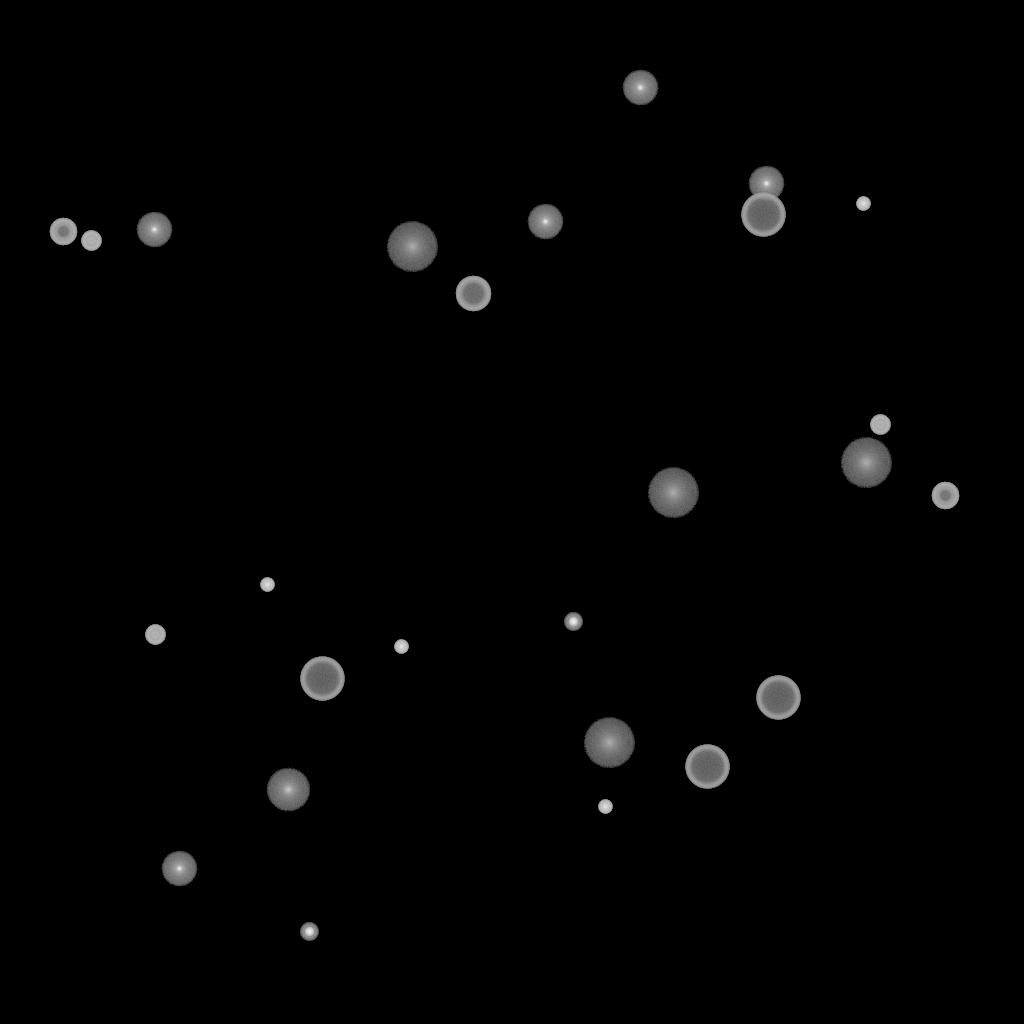depth:-20: (564, 613, 582, 631), (300, 923, 318, 941)
depth:-30: (856, 197, 870, 211), (598, 800, 612, 814), (260, 578, 274, 592), (394, 640, 408, 654)
depth:-40: (870, 415, 890, 435), (145, 625, 165, 645), (81, 231, 101, 251)
depth:-50: (931, 482, 959, 510), (49, 218, 77, 246)
depth:-60: (455, 276, 491, 312)
depth:-70: (685, 745, 729, 789), (300, 657, 344, 701), (756, 676, 800, 720), (741, 193, 785, 237)
depth:0: (622, 70, 658, 106), (161, 851, 197, 887), (527, 204, 563, 240), (136, 212, 172, 248), (748, 166, 784, 202)
depth:10: (266, 768, 310, 812)
depth:20: (840, 438, 892, 488), (647, 468, 699, 518), (583, 718, 635, 768), (386, 222, 438, 272)
